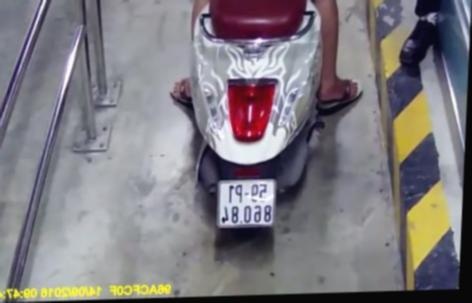License_Plate: (207, 176, 281, 232)
